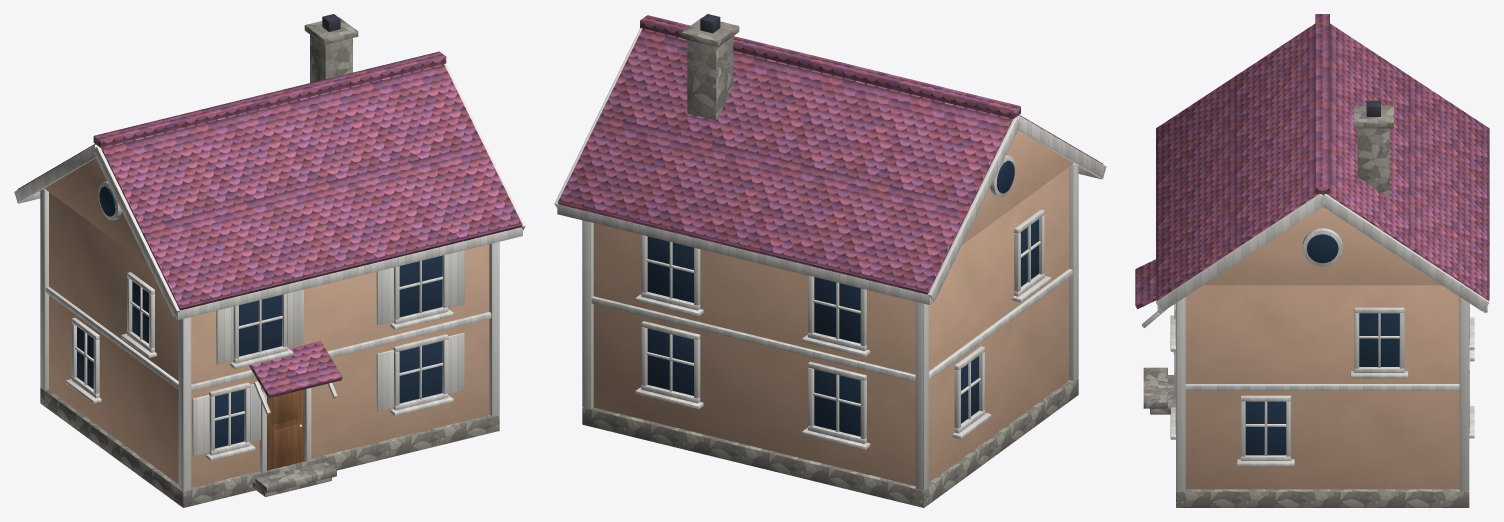
Rendered from house_c.glb.
3 renders of one model, left to right at view 1: azimuth 30°, elevation 25°; view 2: azimuth 150°, elevation 25°; view 3: azimuth 270°, elevation 25°, orthographic. The views are drawn at different scales.
Parts seen in each view (by area): view 1: house_c; view 2: house_c; view 3: house_c.
Boxes of the visible parts, bbox=[...] form: house_c: bbox=[14, 14, 525, 507]; house_c: bbox=[554, 14, 1106, 507]; house_c: bbox=[1135, 14, 1489, 507].
Bounding box in the file's own units: 10.18 × 10.04 × 8.74.
Materials: 8 (8 with a texture image).
